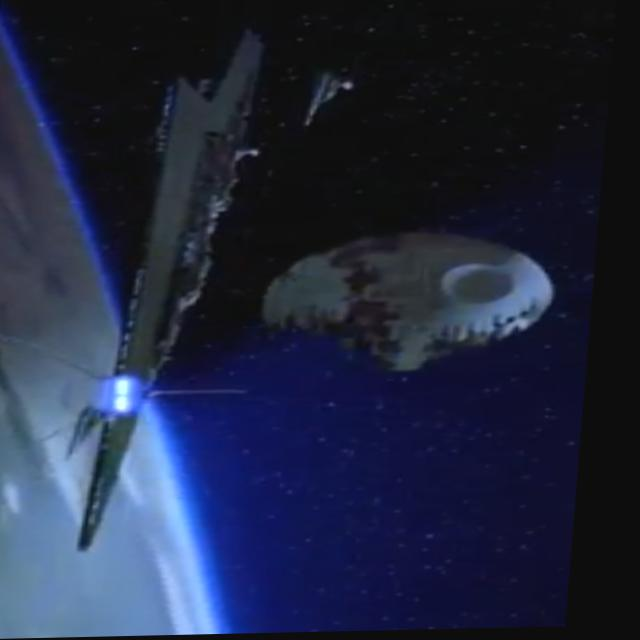deathStar: (259, 230, 560, 377)
